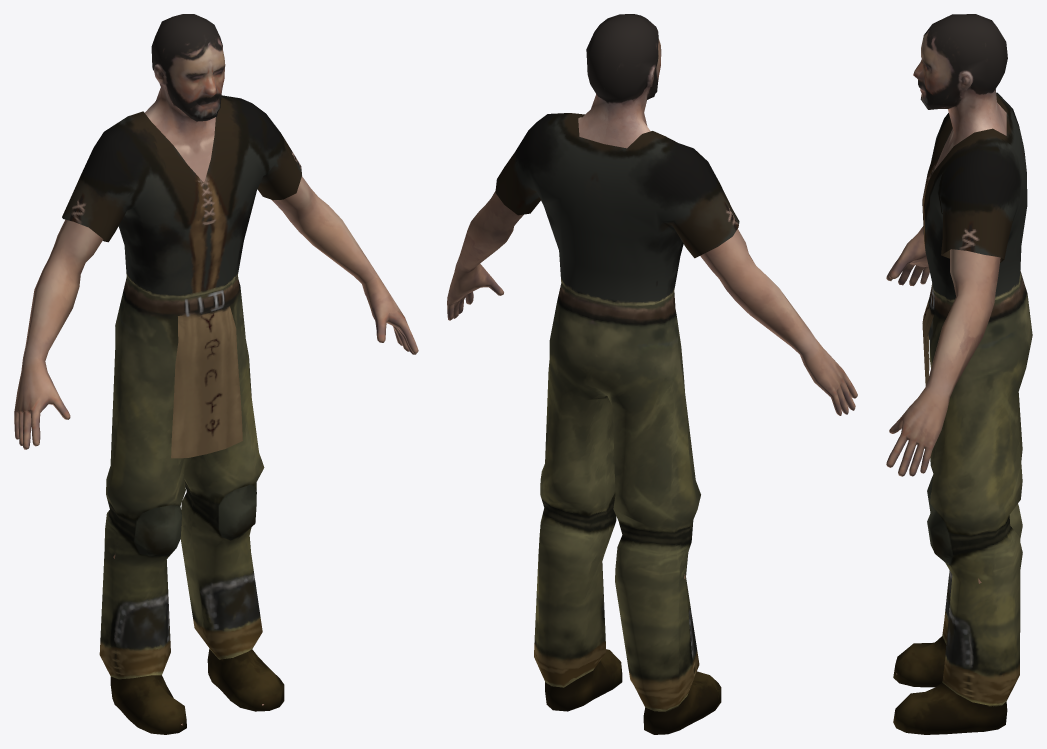
File: Char3_All.fbx
3 views of the same model, side by side, from view 1: azimuth 30°, elevation 25°; view 2: azimuth 150°, elevation 25°; view 3: azimuth 270°, elevation 25° (orthographic).
Visible parts, largest first — view 1: C3_Cloth_low, C3_Body_low, C3_Cloth_Rag_low; view 2: C3_Cloth_low, C3_Body_low; view 3: C3_Cloth_low, C3_Body_low, C3_Cloth_Rag_low.
Part boxes in pixels (x1,y1,x2,y2): C3_Cloth_low: [62, 95, 301, 734]; C3_Body_low: [14, 14, 418, 725]; C3_Cloth_Rag_low: [171, 303, 242, 458]; C3_Cloth_low: [495, 113, 739, 734]; C3_Body_low: [447, 14, 857, 578]; C3_Cloth_low: [893, 92, 1032, 734]; C3_Body_low: [886, 14, 1007, 675]; C3_Cloth_Rag_low: [922, 299, 934, 386].
Size of the model in its own units: 105 by 174 by 33.75.
3 materials, 3 textured.
